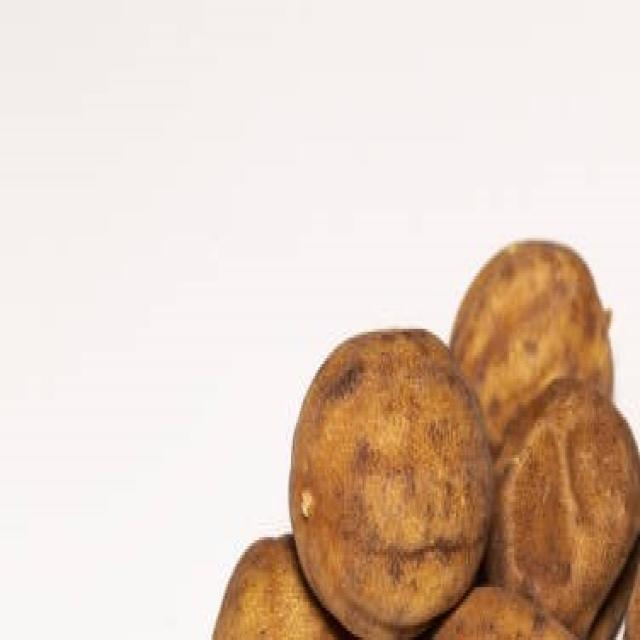overripe: (288, 323, 495, 640), (492, 370, 640, 640), (450, 240, 617, 410)
